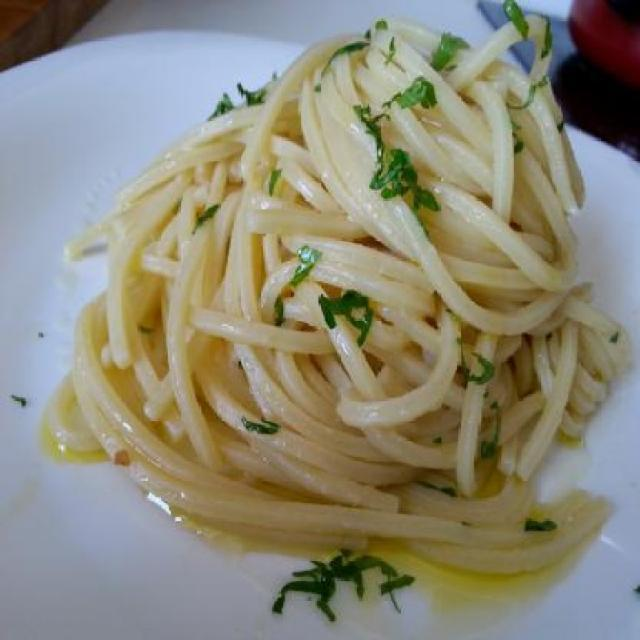Oil pasta: (67, 25, 610, 561)
